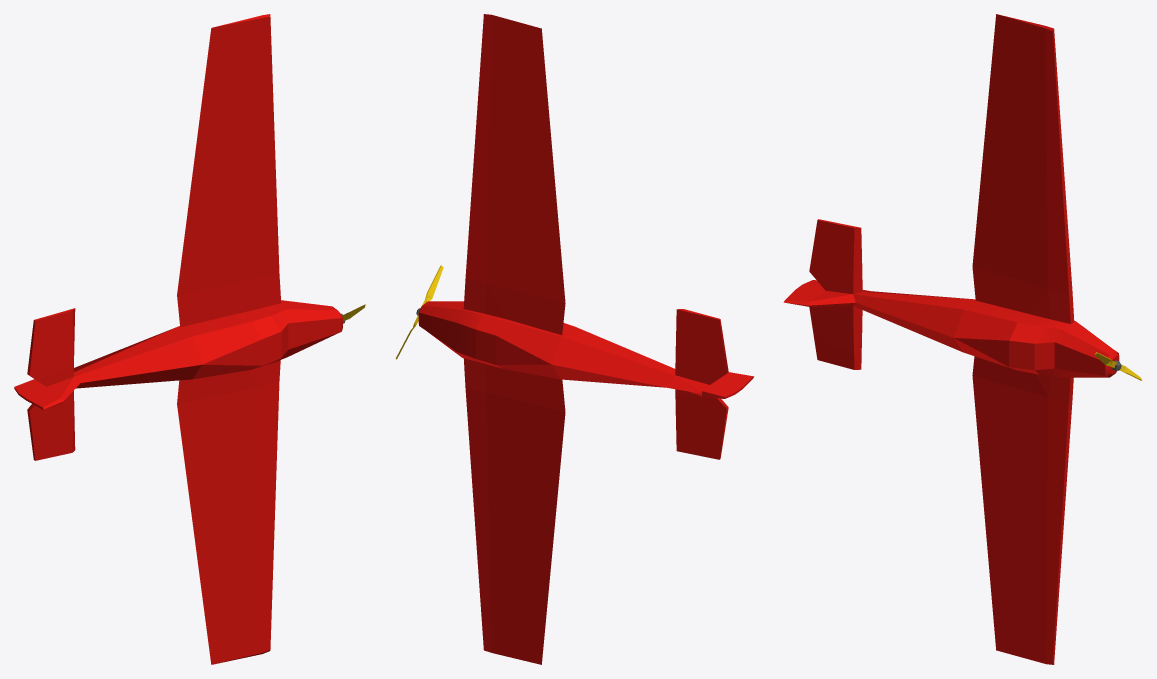
Rendered from Airplane_01(1).obj.
3 views of the same model, side by side, from view 1: azimuth 30°, elevation 25°; view 2: azimuth 150°, elevation 25°; view 3: azimuth 330°, elevation 25° (orthographic).
Parts seen in each view (by area): view 1: pCube60; view 2: pCube60; view 3: pCube60.
Part boxes in pixels (bbox=[...]): pCube60: bbox=[14, 14, 366, 664]; pCube60: bbox=[395, 14, 754, 664]; pCube60: bbox=[783, 14, 1142, 664].
Bounding box in the file's own units: 263 × 499 × 65.76.
